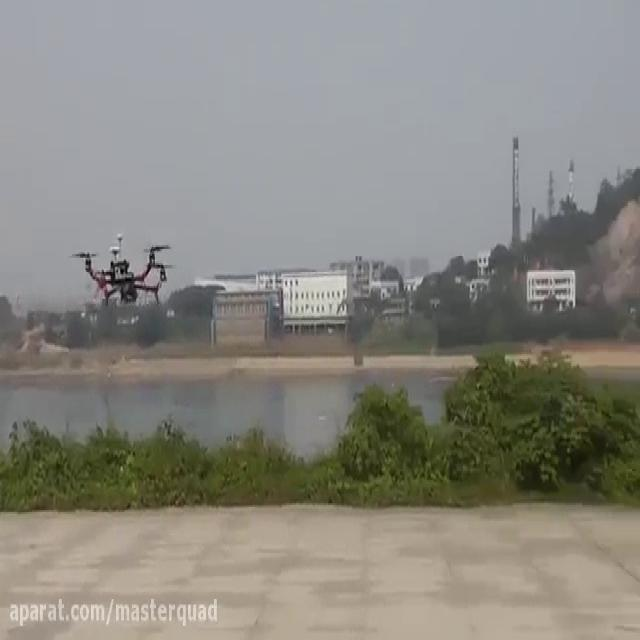drone: (65, 230, 175, 310)
